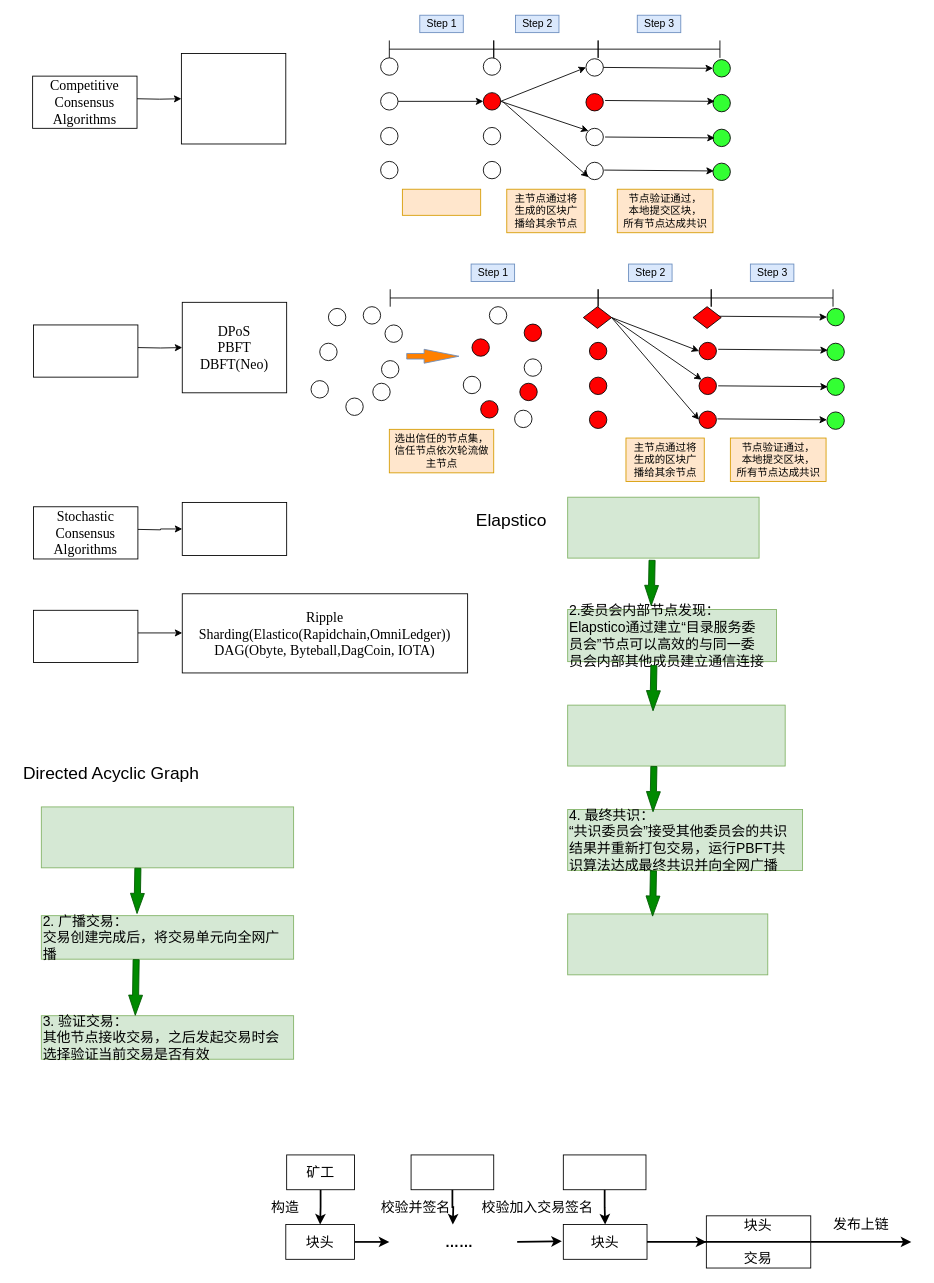
Some shapes in this 934 by 1283 pixel diagram are drawn without their labels. Here are the shapes that lost their labels. From the top down, the centre of each, then its label:
point 233,98: PoW PoS PoA PoC PoR
point 441,201: 各节点通过竞 争产生主节点
point 85,350: Election Consensus Algorithms
point 234,528: Ouroboros PoET
point 663,527: 1. 身份获取和委员会分配： 每个节点产生一个身份信息， 随后根据身份信息将节点划分 到不同的委员会
point 85,636: Other Consensus Algorithms
point 676,735: 3. 委员会内部共识： 委员会内部运行PBFT共识算法对 交易集达成共识，将共识结果发 送到“共识委员会”
point 167,837: 1. 创建交易： 用户需要交易时，创建一个交易单元， 包括：消息类型、签名以及一个或多 个之前交易单元的哈希值
point 667,944: 5. 产生随机数： “共识委员会”产生一组随机数， 用于下一周期中节点重新构建 身份信息
point 452,1172: N-1个参与者
point 604,1172: 第N个参与者
